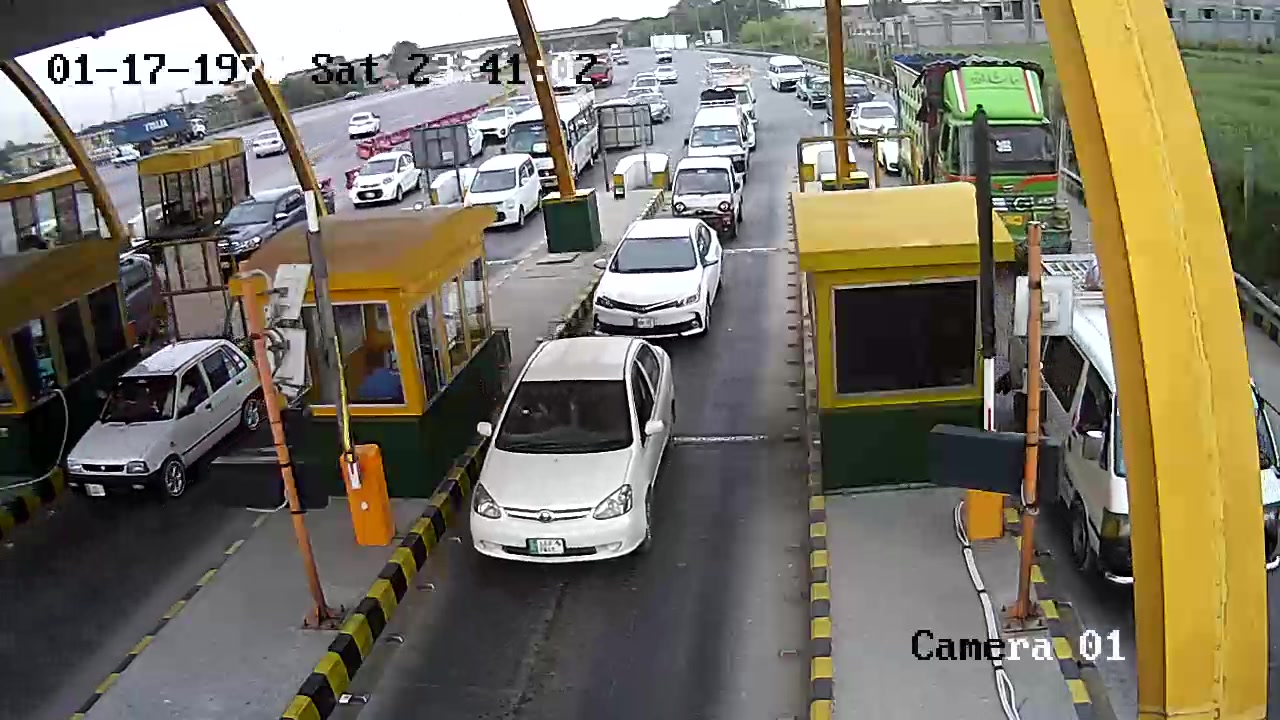F1: (465, 336, 696, 579), (585, 216, 733, 338)
